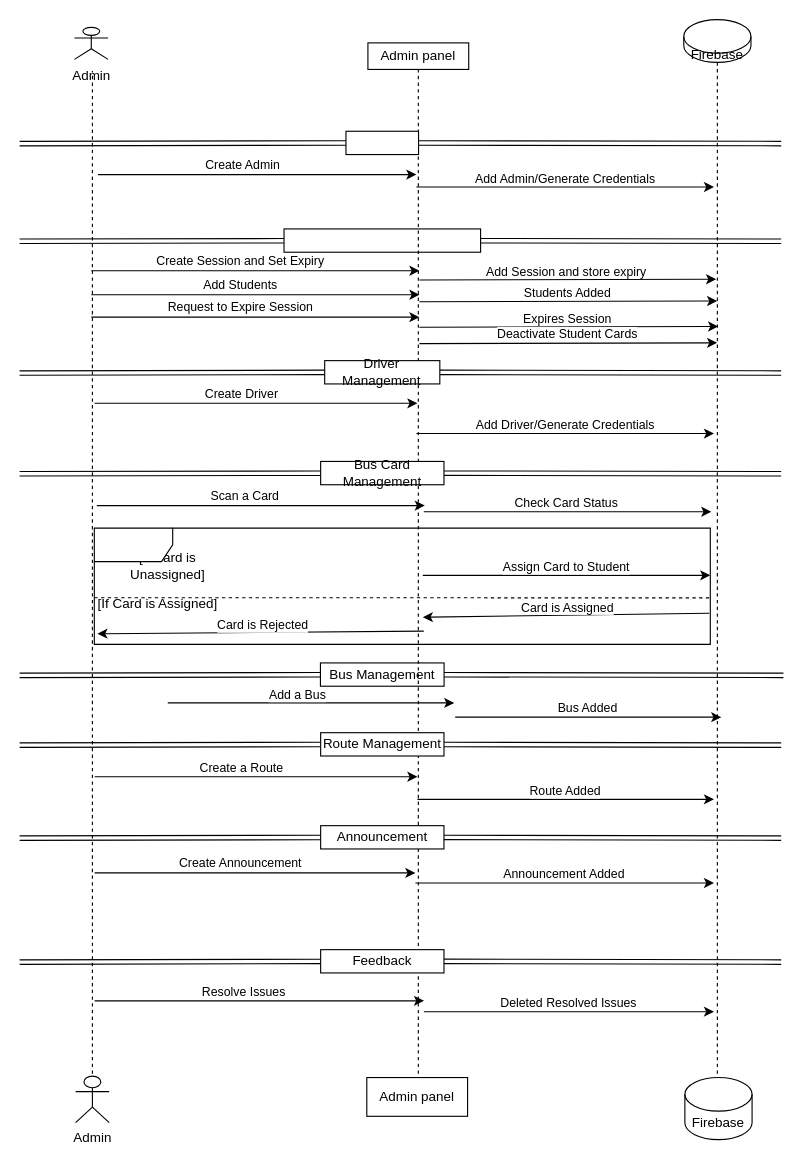
Some shapes in this 803 by 1166 pixel diagram are drawn without their labels. Here are the shapes that lost their labels. From the top down, the box of each, then its label:
(345, 130, 419, 155): user sign up
(283, 228, 481, 252): Student & Session Management
(93, 527, 710, 644): Alternative
